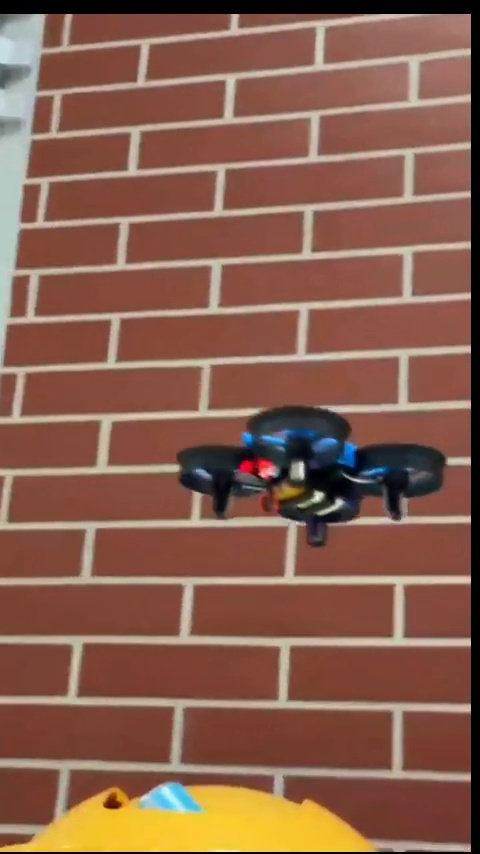drone: (181, 407, 453, 546)
